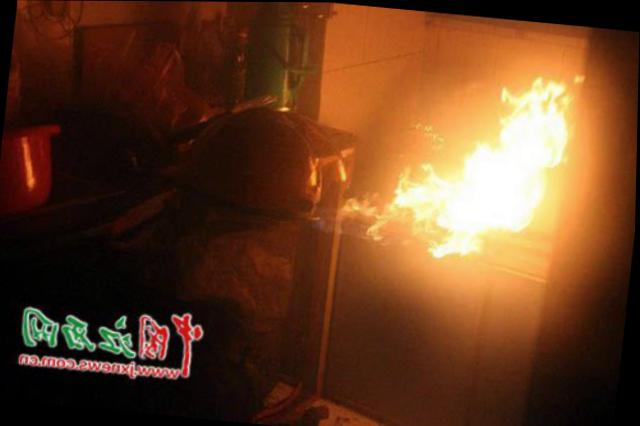fire: (457, 144, 546, 234), (504, 72, 580, 170), (395, 172, 481, 230), (432, 225, 482, 261), (343, 193, 382, 219)
